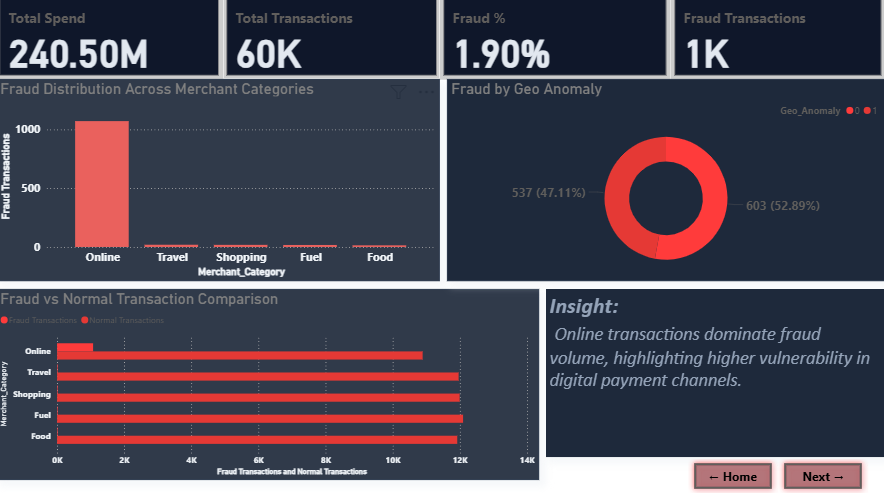

The dashboard page shown, as its layout file describes it:
{"tool":"powerbi","page":{"name":"Page 1","canvas":[1280,720],"ordinal":1},"visuals":[{"type":"cardVisual","fields":{"Data":["credit_card_dataset_1.Total Transactions"]},"box":[326.7,0,313.3,121.7],"z":0},{"type":"cardVisual","fields":{"Data":["credit_card_dataset_1.Total Spend"]},"box":[0,0,326.7,121.7],"z":1000},{"type":"cardVisual","fields":{"Data":["credit_card_dataset_1.Fraud Transactions"]},"box":[971.7,0,308.3,121.7],"z":2000},{"type":"cardVisual","fields":{"Data":["credit_card_dataset_1.Fraud %"]},"box":[640,0,331.7,121.7],"z":3000},{"type":"clusteredColumnChart","title":"Fraud Distribution Across Merchant Categories","fields":{"Category":["credit_card_dataset_1.Merchant_Category"],"Y":["credit_card_dataset_1.Fraud Transactions"]},"box":[0,121,639.4,290.9],"z":4000},{"type":"clusteredBarChart","title":"Fraud vs Normal Transaction Comparison","fields":{"Category":["credit_card_dataset_1.Merchant_Category"],"Y":["credit_card_dataset_1.Fraud Transactions","credit_card_dataset_1.Normal Transactions"]},"box":[0,423.3,781.7,275],"z":5000},{"type":"donutChart","title":"Fraud by Geo Anomaly","fields":{"Category":["credit_card_dataset_1.Geo_Anomaly"],"Y":["Sum(credit_card_dataset_1.Fraud_Flag)"]},"box":[649.4,121,630.7,290.9],"z":6000},{"type":"textbox","box":[792,423.4,488.2,241.9],"z":7000},{"type":"actionButton","box":[996.5,665.3,129.6,54.7],"z":8000},{"type":"actionButton","box":[1126.1,665.3,129.6,54.7],"z":9000}]}

Visuals, with their boxes in screenshot pixels (x1, y1, x2, y2), scaled from the page's 1280x720 canvas onto the 884x493 screenshot:
cardVisual - credit_card_dataset_1.Total Transactions: region(226, 0, 442, 83)
cardVisual - credit_card_dataset_1.Total Spend: region(0, 0, 226, 83)
cardVisual - credit_card_dataset_1.Fraud Transactions: region(671, 0, 883, 83)
cardVisual - credit_card_dataset_1.Fraud %: region(442, 0, 671, 83)
"Fraud Distribution Across Merchant Categories" clusteredColumnChart: region(0, 83, 442, 282)
"Fraud vs Normal Transaction Comparison" clusteredBarChart: region(0, 290, 540, 478)
"Fraud by Geo Anomaly" donutChart: region(448, 83, 883, 282)
textbox: region(547, 290, 883, 456)
actionButton: region(688, 456, 778, 492)
actionButton: region(778, 456, 867, 492)
